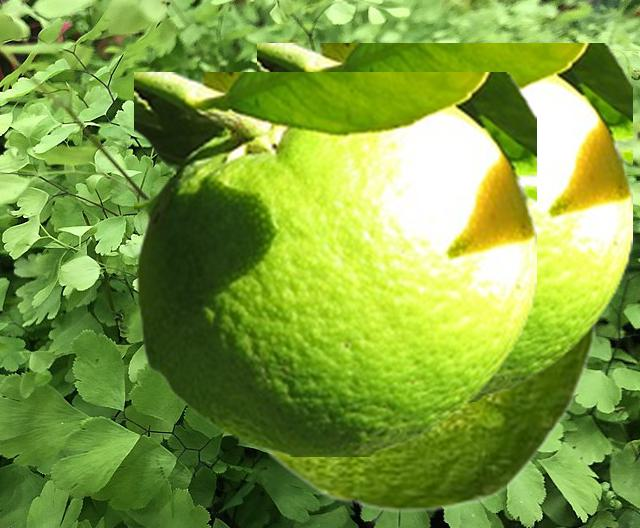dalandan: (134, 72, 535, 455), (257, 147, 628, 511), (257, 43, 631, 400)
